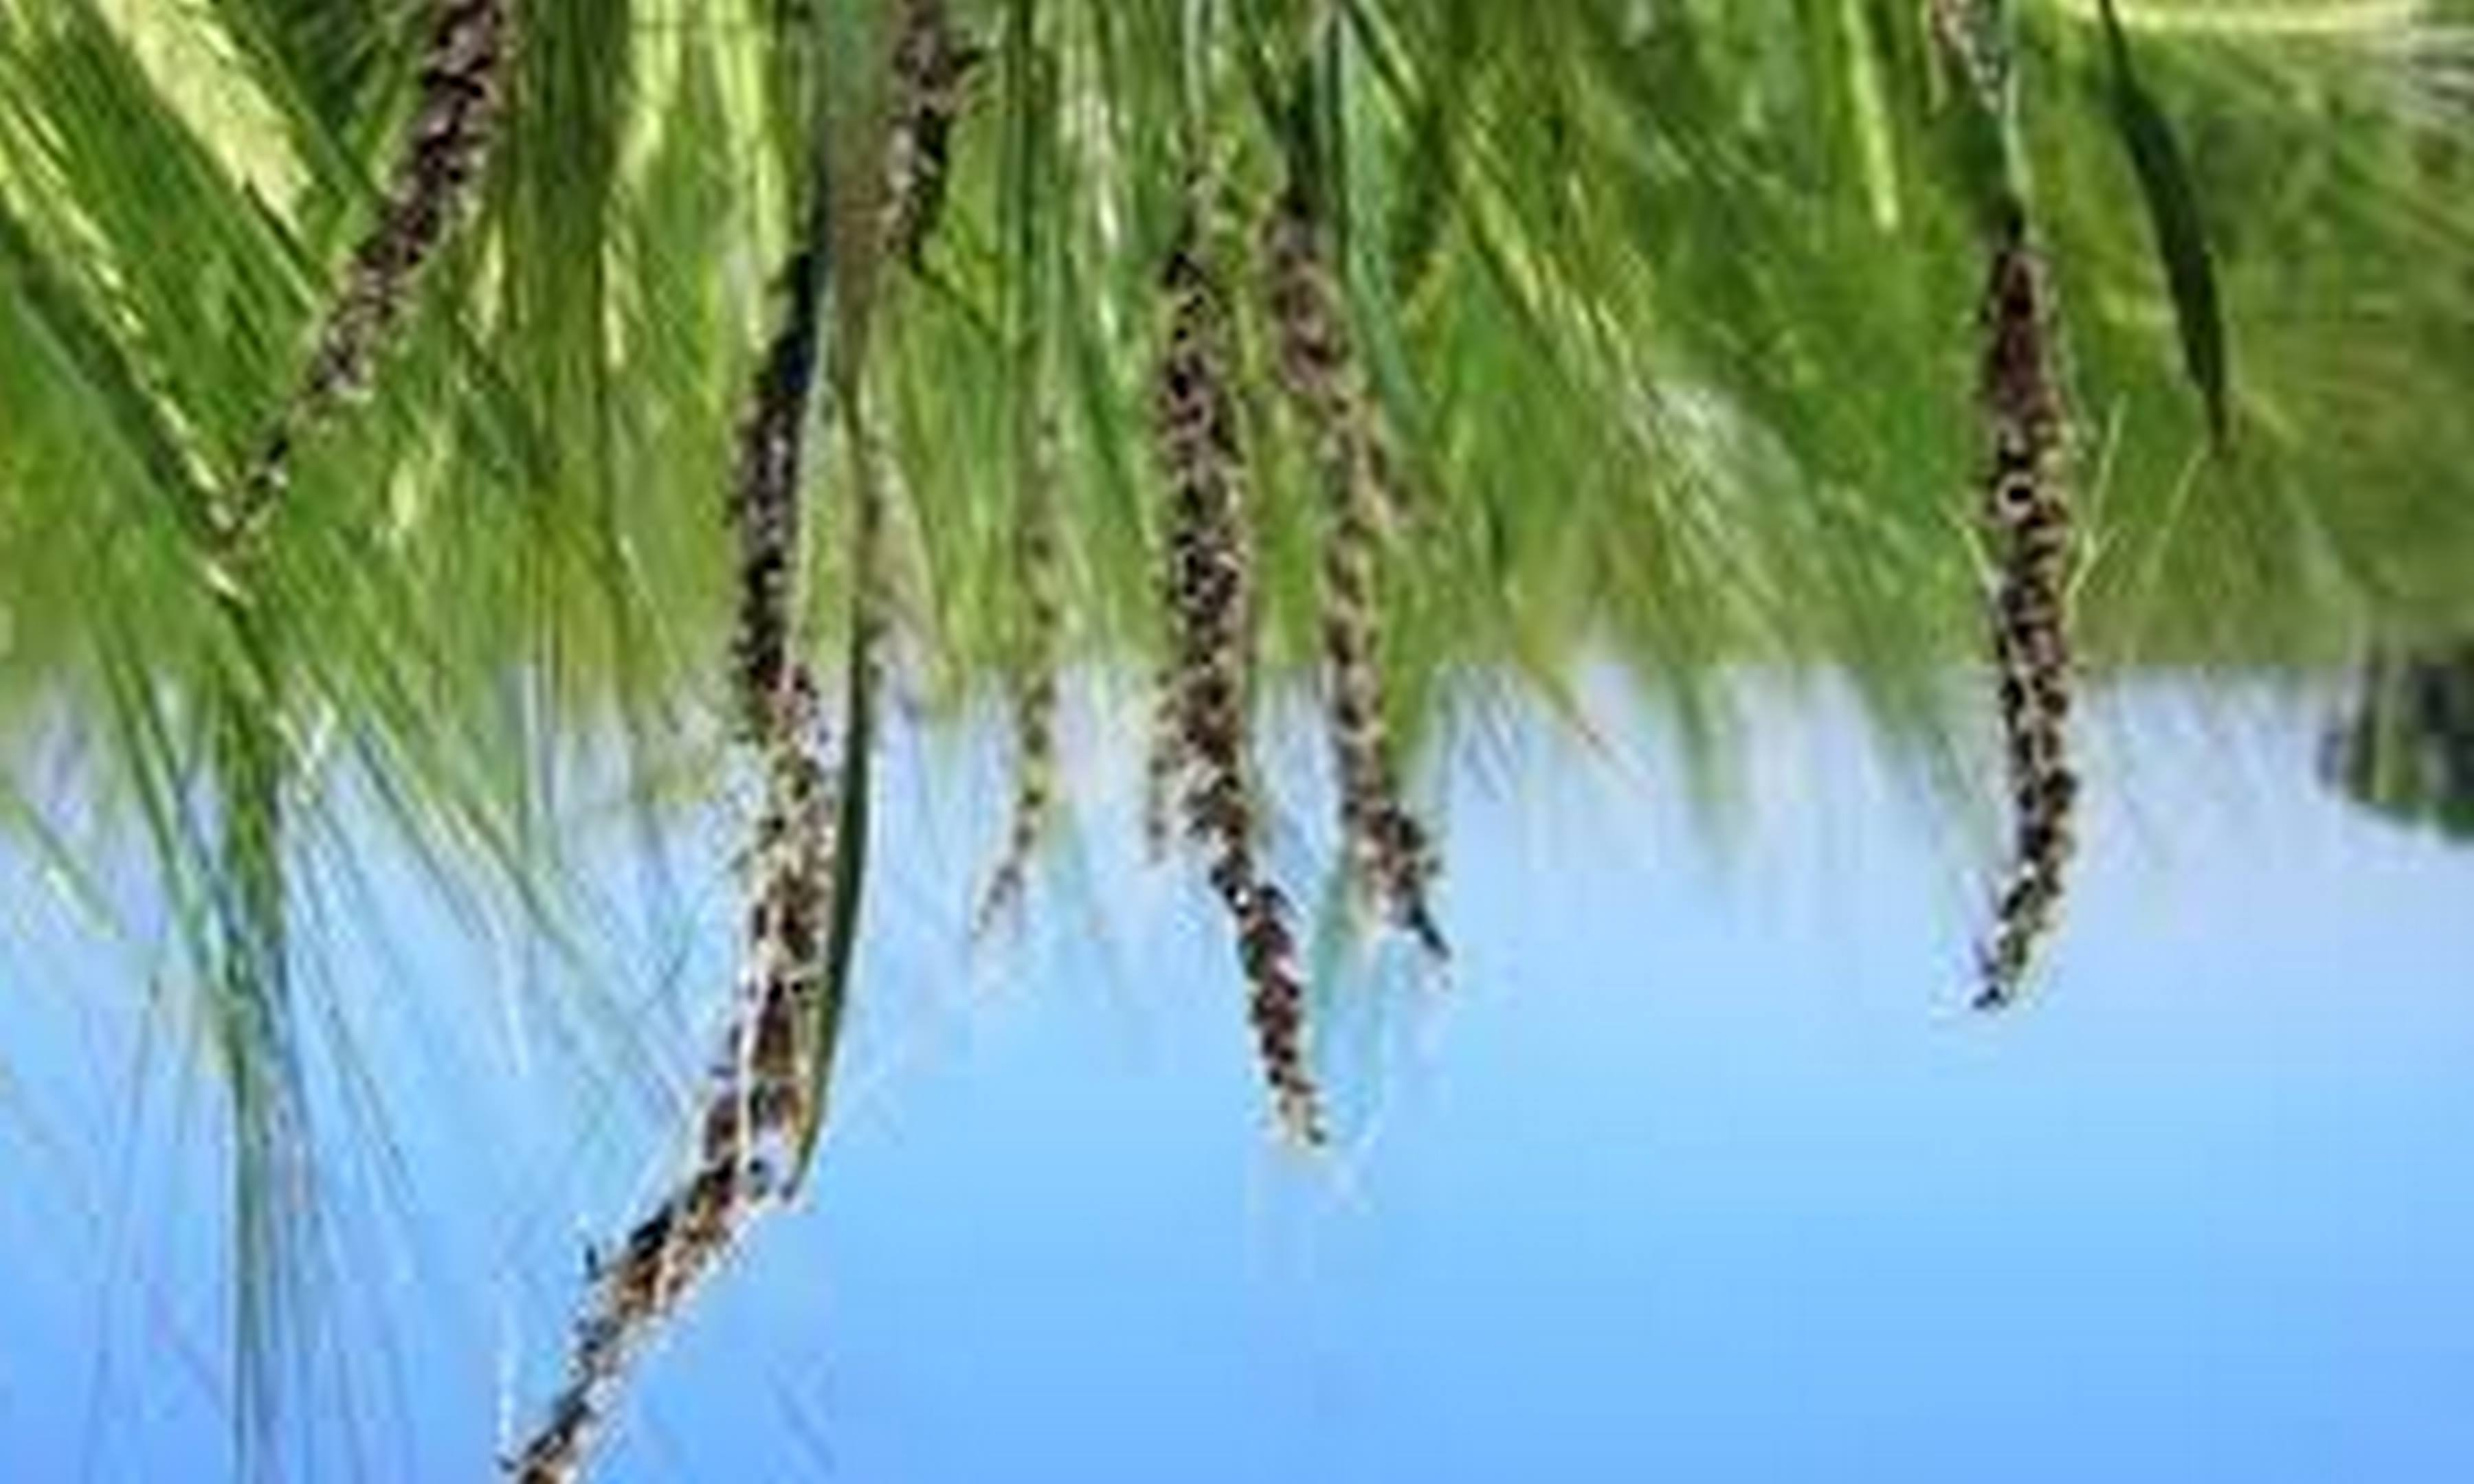Wheat Loose Smut: (1129, 272, 1511, 1101)
